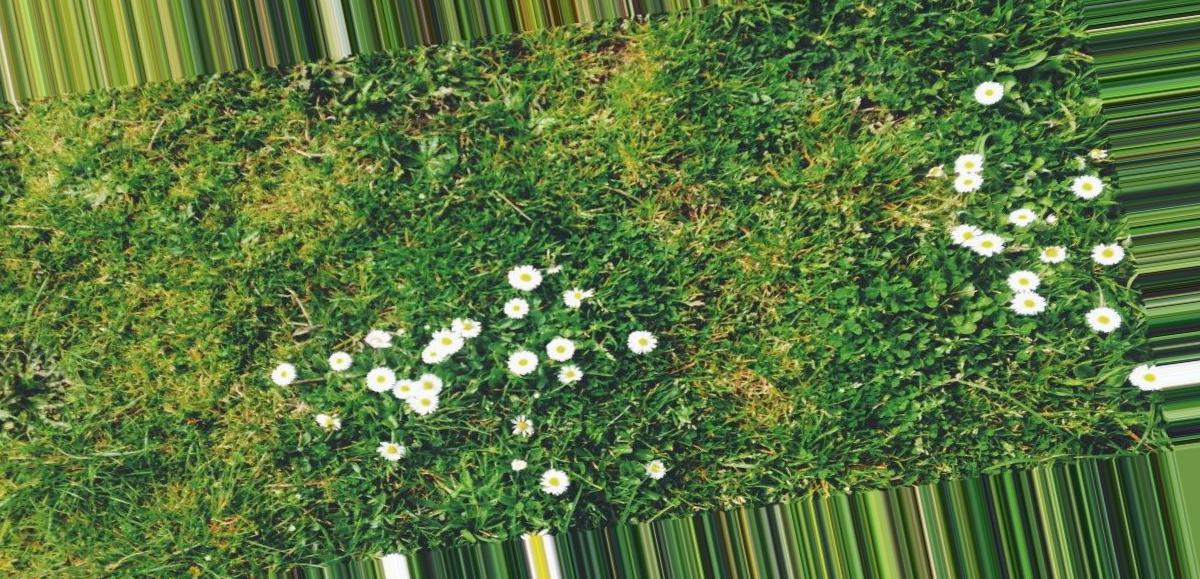patch: (252, 159, 336, 219)
